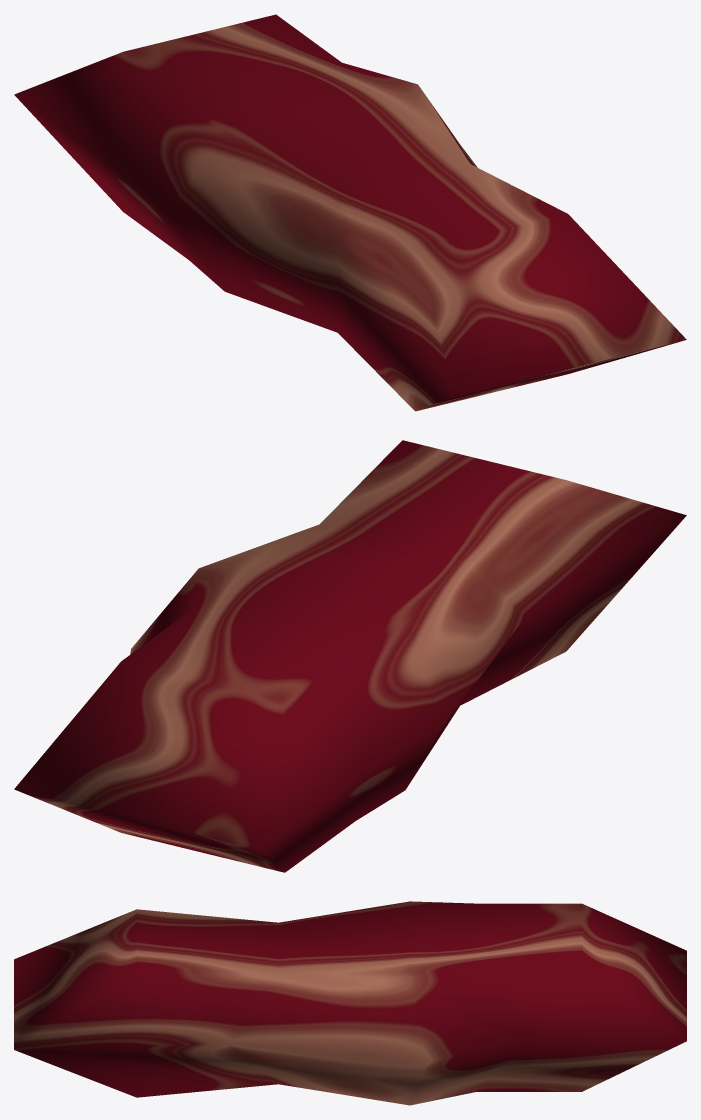
File: bbq2.fbx
The picture shows the model from 3 angles, top to bottom: view 1: azimuth 30°, elevation 25°; view 2: azimuth 150°, elevation 25°; view 3: azimuth 270°, elevation 25°; orthographic projection. The views are drawn at different scales.
Parts seen in each view (by area): view 1: BBQ 2; view 2: BBQ 2; view 3: BBQ 2.
Part boxes in pixels (x1,y1,x2,y2): BBQ 2: (14, 14, 686, 411); BBQ 2: (14, 440, 686, 872); BBQ 2: (14, 901, 686, 1105).
Bounding box in the file's own units: 31.48 × 6.63 × 12.65.
1 material, 1 textured.
